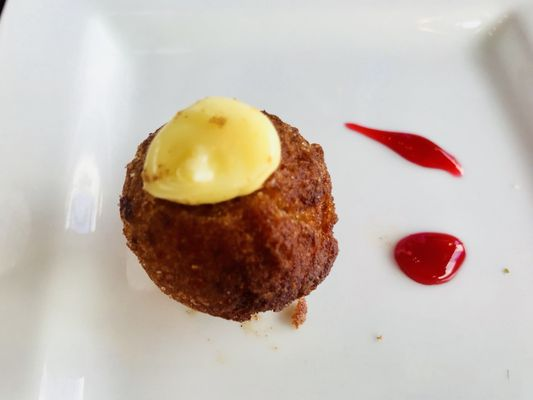pasta: (142, 95, 282, 207)
